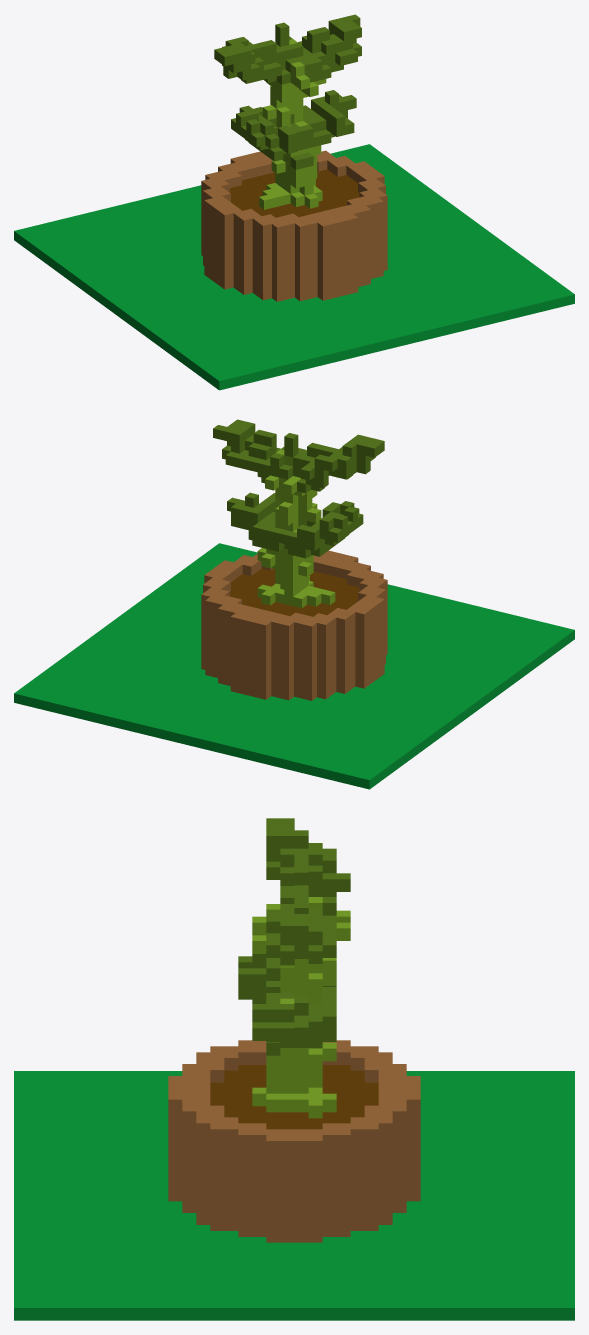
File: Planta 6.glb
The picture shows the model from 3 angles, top to bottom: view 1: azimuth 30°, elevation 25°; view 2: azimuth 150°, elevation 25°; view 3: azimuth 270°, elevation 25°; orthographic projection. The views are drawn at different scales.
Visible parts, largest first — view 1: _0; view 2: _0; view 3: _0.
Boxes of the visible parts, bbox=[...] form: _0: bbox=[14, 14, 574, 390]; _0: bbox=[14, 419, 574, 789]; _0: bbox=[14, 818, 574, 1320].
Bounding box in the file's own units: 40 × 26 × 40.
